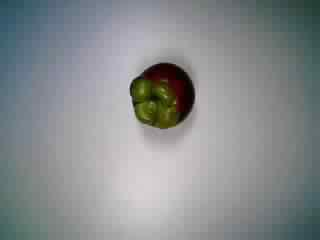mangosteen: (119, 60, 197, 132)
